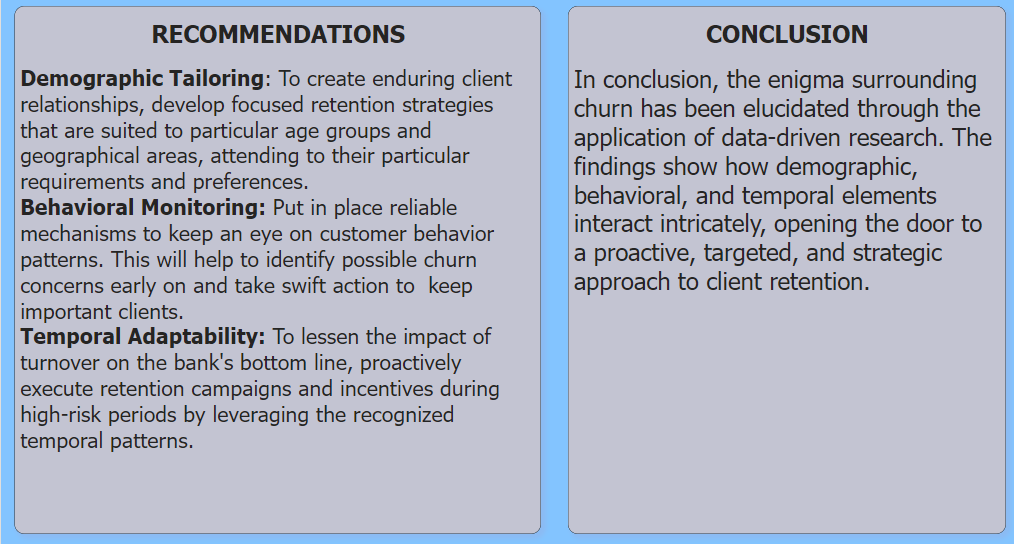

The dashboard page shown, as its layout file describes it:
{"tool":"powerbi","page":{"name":"RECOMMENDATION AND CONCLUSIONS","canvas":[2280,1240],"ordinal":2},"visuals":[{"type":"textbox","box":[30.3,26.9,1181.5,1184.9],"z":0},{"type":"textbox","box":[1272.4,26.9,982.9,1184.9],"z":1000}]}

Visuals, with their boxes in screenshot pixels (x1, y1, x2, y2), scaled from the page's 2280x1240 canvas onto the 1014x544 screenshot:
textbox: [13, 12, 539, 532]
textbox: [566, 12, 1003, 532]
